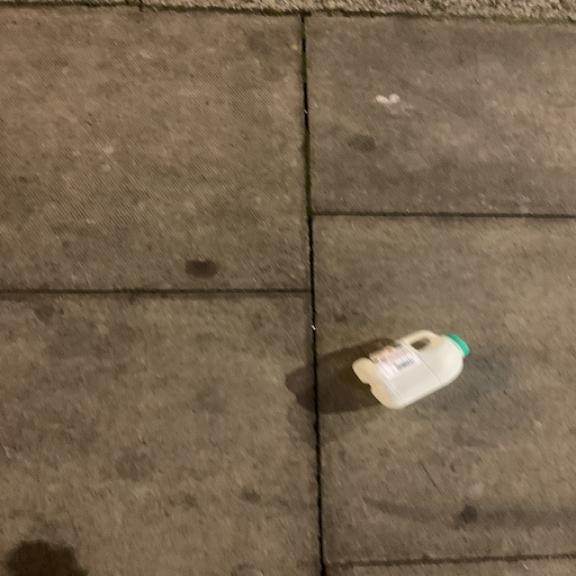Plastik: (349, 328, 472, 412)
